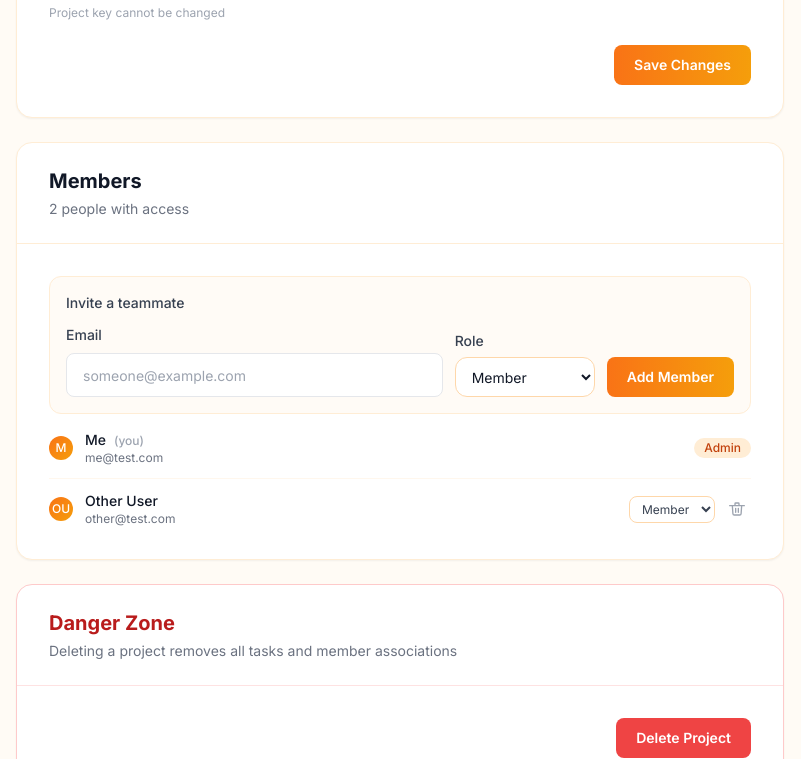
Scenario: SettingsPage › submits POST to add a member when form is filled
The width and height of the screenshot is (801, 759).
(page scrolled)
Type "new@test.com" into the field labelled "Email". click: (254, 375)
box: x1=66 y1=353 x2=443 y2=397
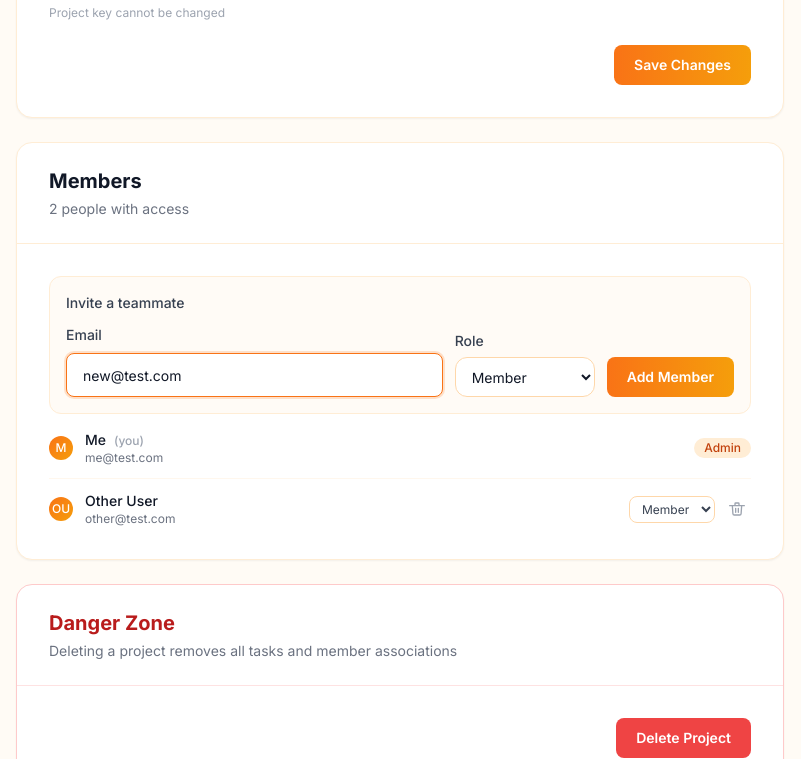
Click the button "Add Member". click: (670, 377)
box: x1=607 y1=357 x2=734 y2=397
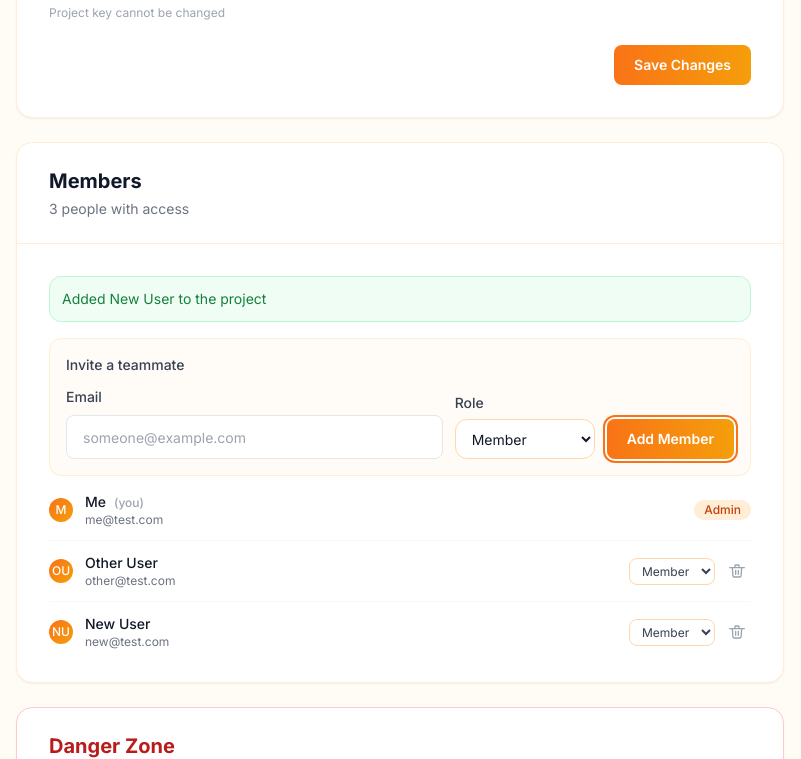
Result: the text "new@test.com" is shown at x1=85 y1=634 x2=169 y2=650
